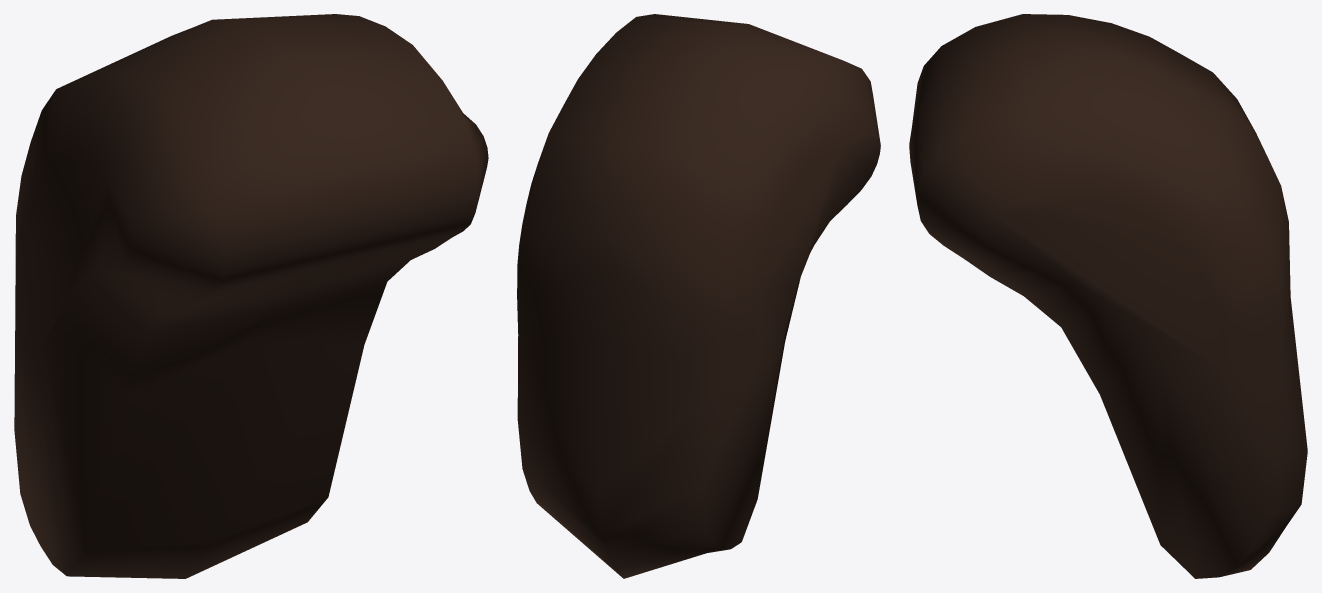
The model's file is Hair4F.glb.
3 views of the same model, side by side, from view 1: azimuth 30°, elevation 25°; view 2: azimuth 150°, elevation 25°; view 3: azimuth 270°, elevation 25° (orthographic). The views are drawn at different scales.
Visible parts, largest first — view 1: Hair4F.001; view 2: Hair4F.001; view 3: Hair4F.001.
Part boxes in pixels (bbox=[...]): Hair4F.001: bbox=[14, 14, 488, 578]; Hair4F.001: bbox=[517, 14, 880, 578]; Hair4F.001: bbox=[909, 14, 1307, 578].
Bounding box in the file's own units: 2.63 × 4.41 × 3.04.
